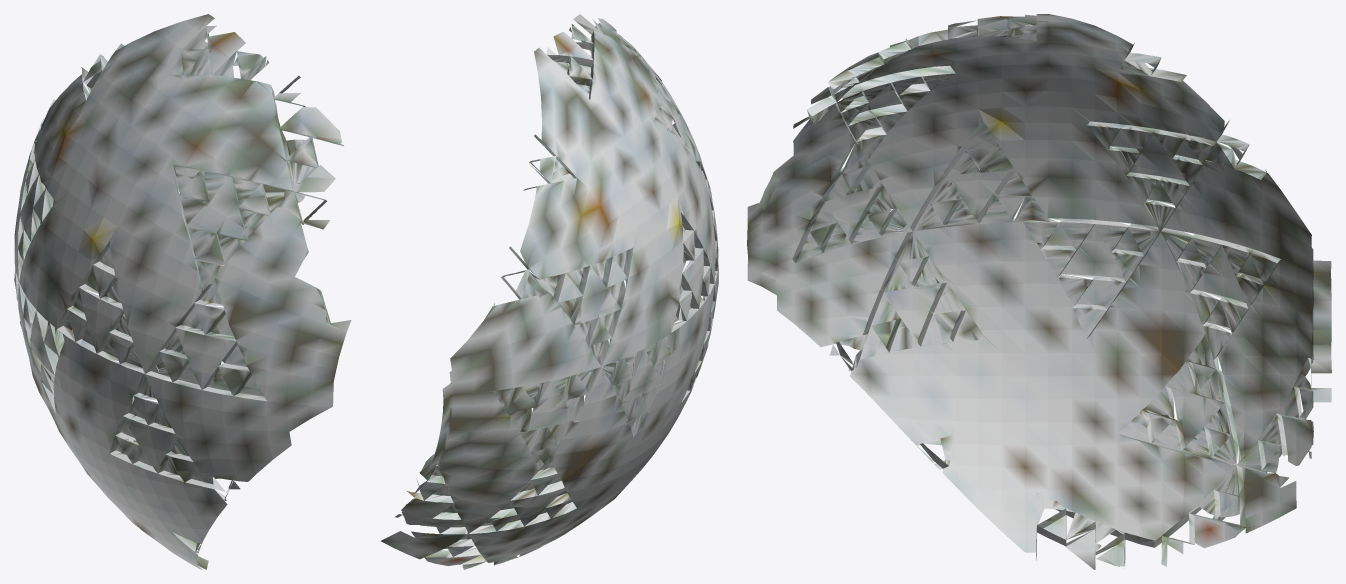
The picture shows the model from 3 angles, left to right: view 1: azimuth 30°, elevation 25°; view 2: azimuth 150°, elevation 25°; view 3: azimuth 270°, elevation 25°; orthographic projection. The views are drawn at different scales.
Bounding box in the file's own units: 0.3163 × 0.8296 × 0.7926.
